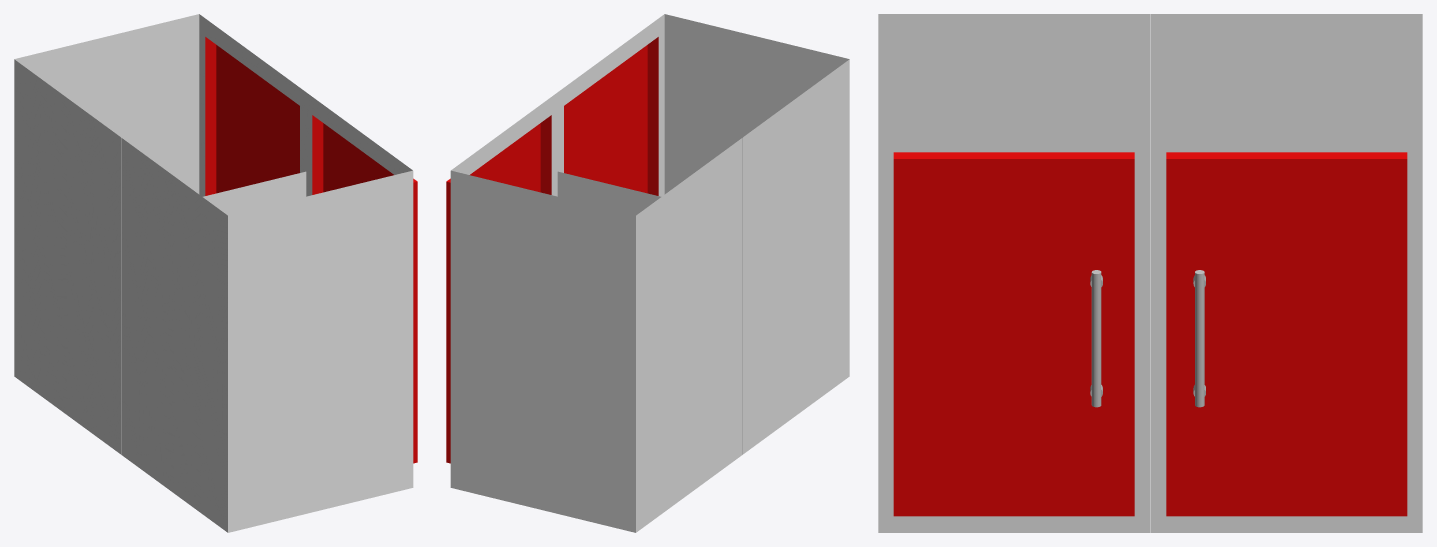
The model's file is furnSink.fbx.
The picture shows the model from 3 angles, left to right: view 1: azimuth 30°, elevation 25°; view 2: azimuth 150°, elevation 25°; view 3: azimuth 270°, elevation 25°; orthographic projection. The views are drawn at different scales.
Parts seen in each view (by area): view 1: Cube; view 2: Cube; view 3: Cube.
Boxes of the visible parts, <box> form: Cube: <box>14,14,417,532</box>; Cube: <box>446,14,849,532</box>; Cube: <box>878,14,1422,532</box>.
Size of the model in its own units: 2.24 by 3.28 by 4.
Materials: 1 (1 with a texture image).
